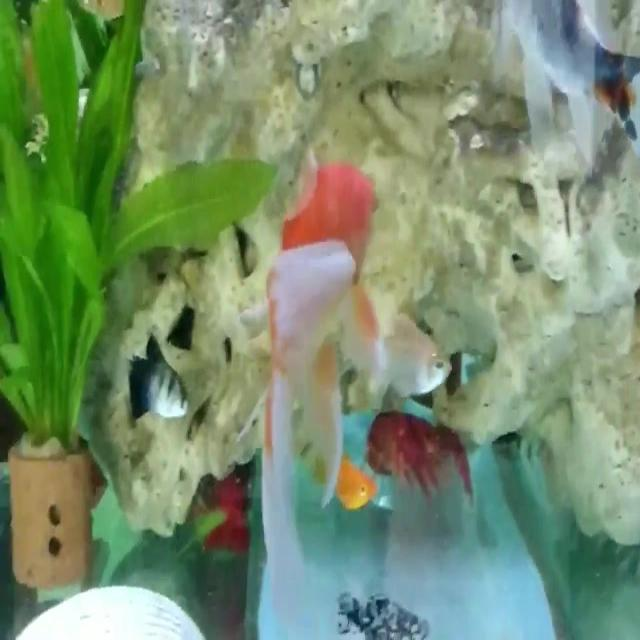GoldFish: (256, 135, 392, 501)
